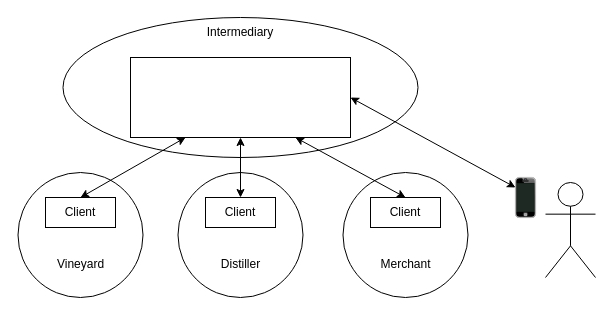
Some shapes in this 613 by 316 pixel diagram are drawn without their labels. Here are the shapes that lost their labels. From the top down, the centre of each, then its label:
[240,97]: Server
[570,230]: Buyer
